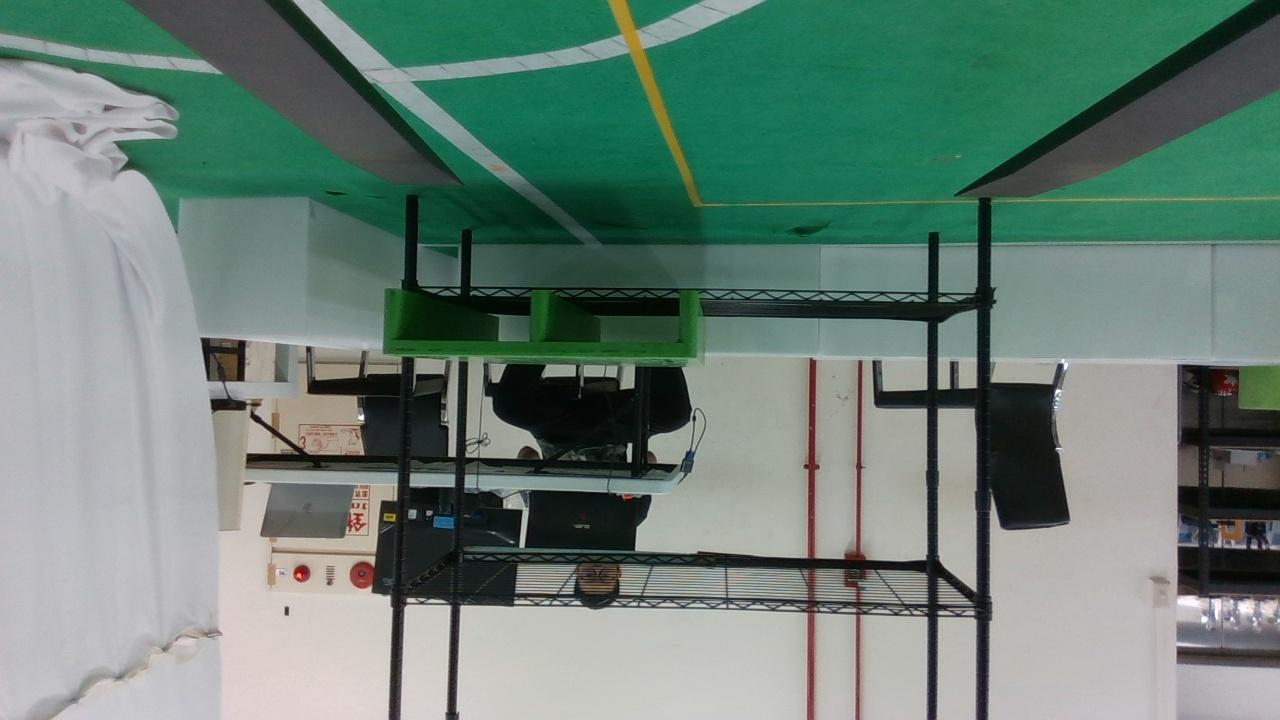Pallet: (379, 290, 701, 359)
